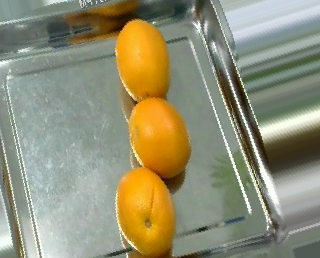Orange: (128, 97, 192, 179), (115, 167, 176, 253), (113, 17, 170, 101)
